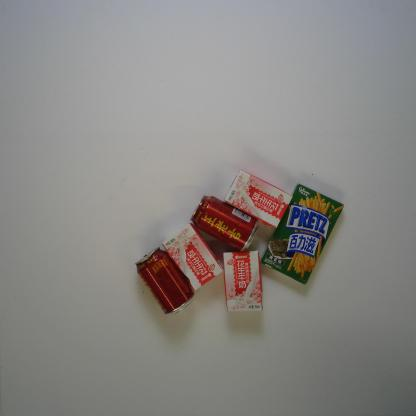Dessert: (257, 180, 346, 286)
Drink: (132, 244, 198, 318), (189, 194, 261, 251)
Milk: (223, 167, 296, 233), (160, 222, 226, 292), (222, 248, 264, 315)
